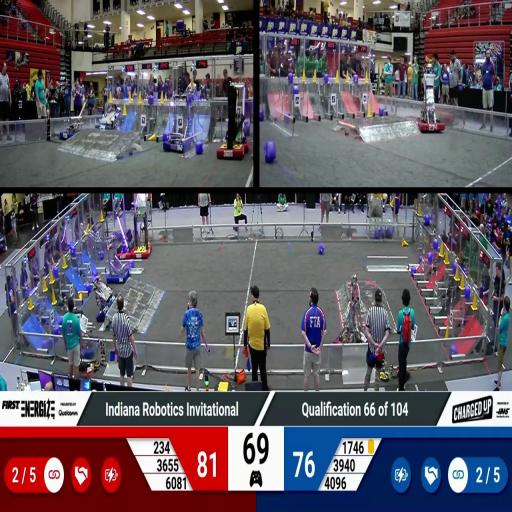robot: (217, 81, 244, 161), (162, 93, 196, 156), (418, 65, 444, 135), (103, 234, 133, 284), (346, 271, 365, 348), (230, 83, 250, 155), (332, 302, 360, 352), (90, 277, 117, 319), (113, 208, 135, 258), (132, 206, 152, 258), (80, 322, 103, 358), (95, 106, 122, 132), (60, 116, 82, 143)
